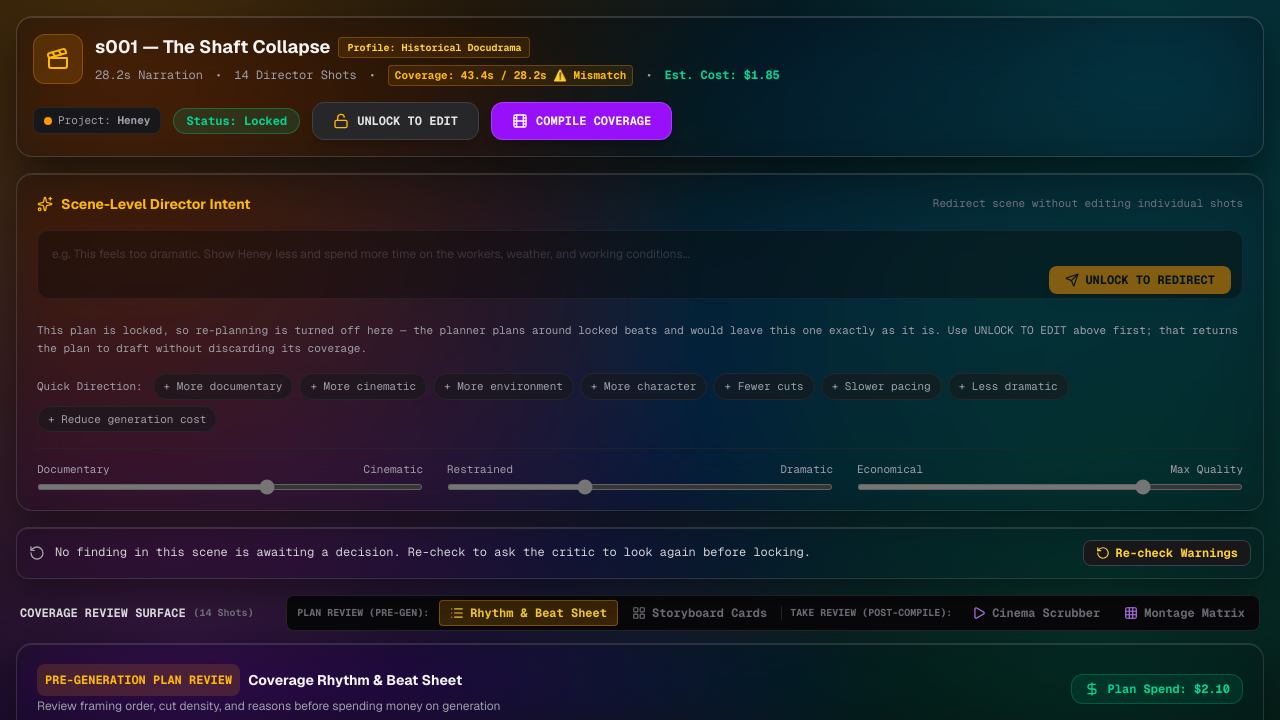
Test: the montage matrix shows this film, not the fixture › real coverage is not truncated to a fixture's shape
The image size is (1280, 720).
Click the button "Montage Matrix".
click(1185, 613)  # box [1114,601,1255,625]
(page scrolled)
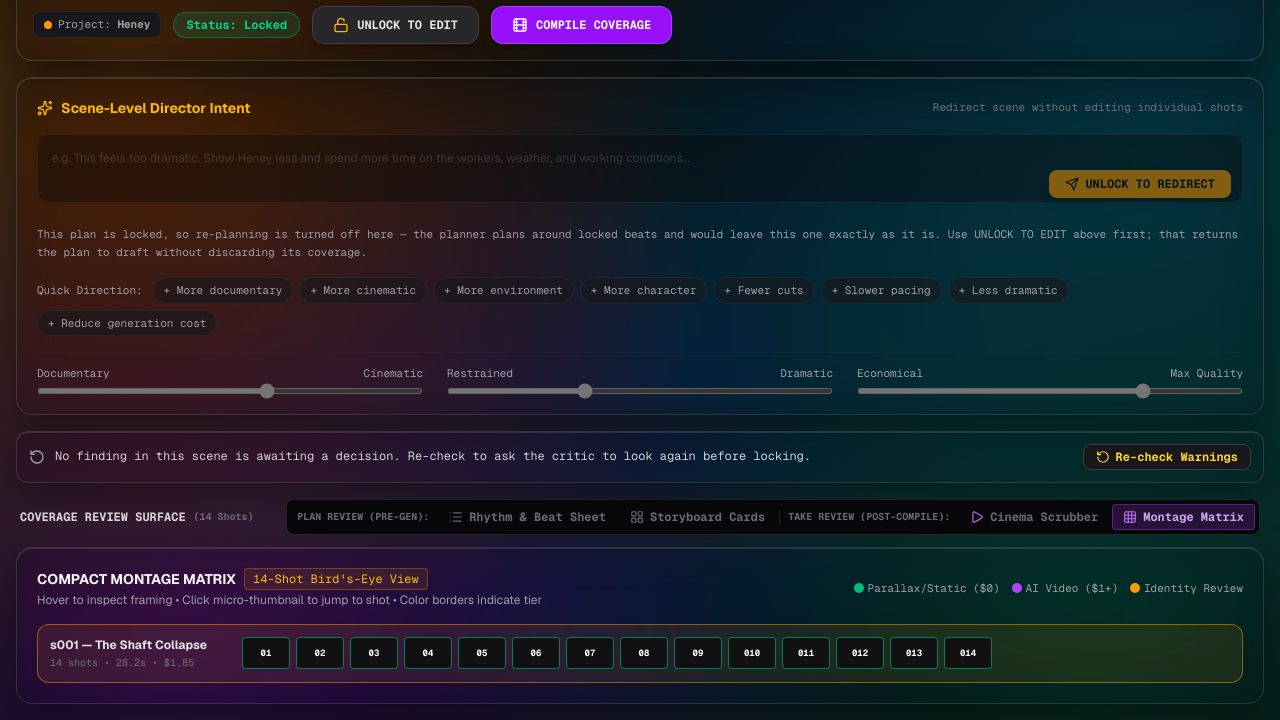
Now the text with test id "matrix-shot-count" reads "14-Shot Bird's-Eye View", box [244,568,428,590]
Now the element with test id "montage-matrix" shows "14 shots", box [16,547,1264,704]
